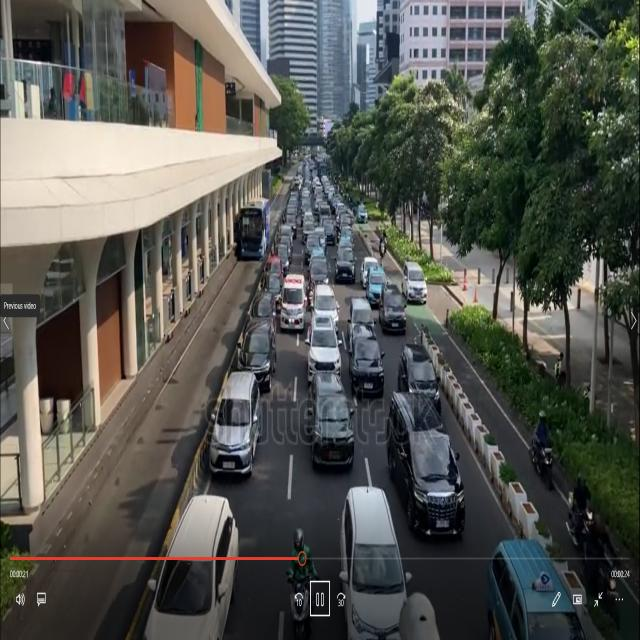Ambulance: (278, 273, 310, 340)
